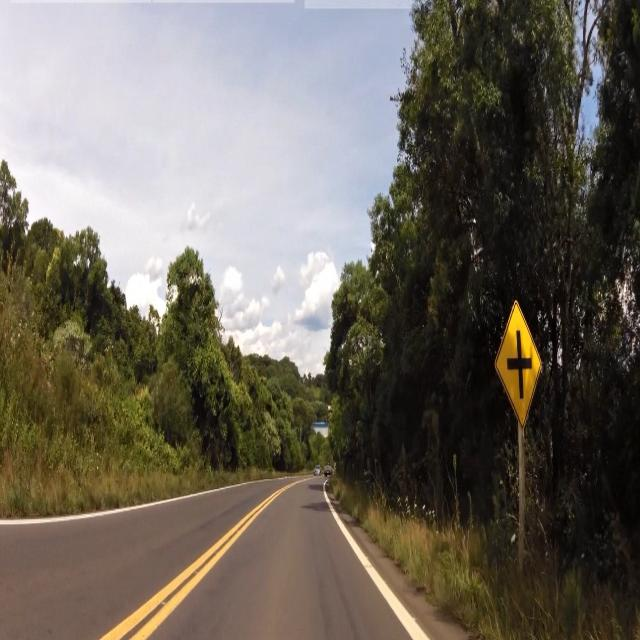A-6: (489, 294, 549, 424)
